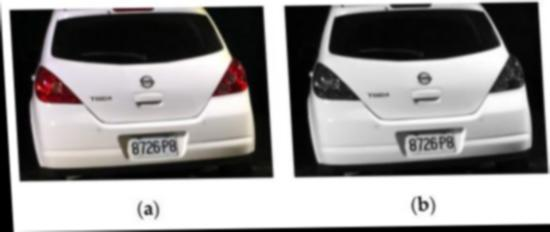License_Plate: (124, 131, 184, 161), (401, 129, 459, 156)
